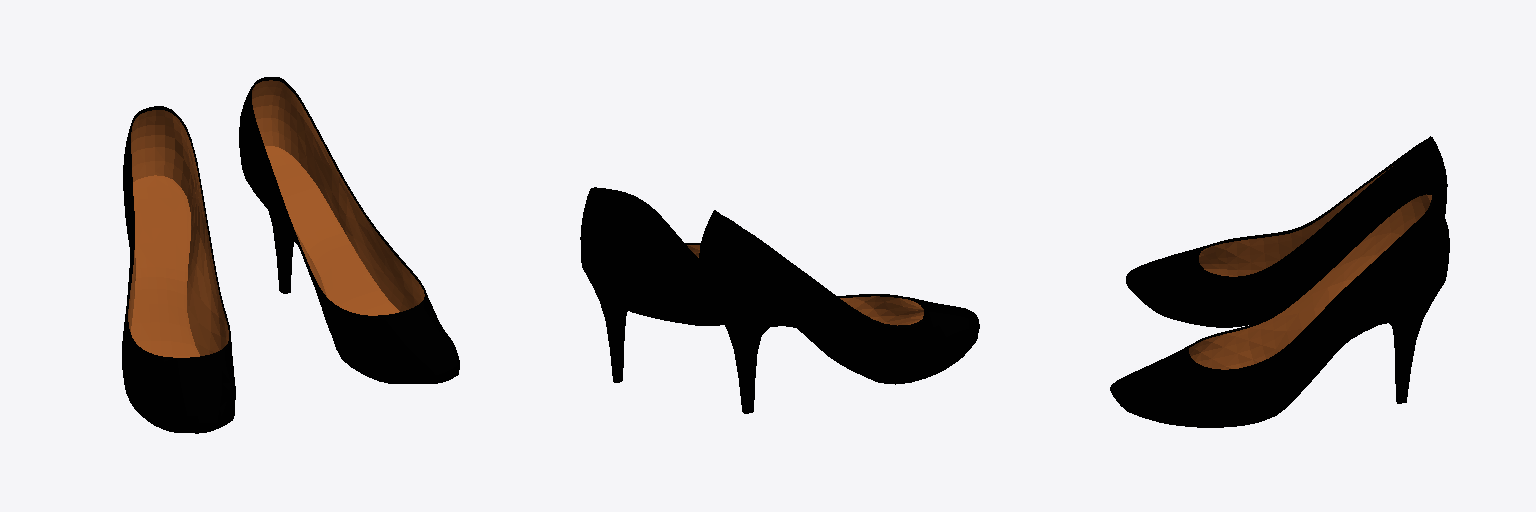
File: woman_shoes.obj
3 renders of one model, left to right at view 1: azimuth 30°, elevation 25°; view 2: azimuth 150°, elevation 25°; view 3: azimuth 270°, elevation 25°, orthographic.
Parts seen in each view (by area): view 1: left_shoe_Plane.001, right_shoe_Plane.005; view 2: right_shoe_Plane.005, left_shoe_Plane.001; view 3: left_shoe_Plane.001, right_shoe_Plane.005.
Boxes of the visible parts, box(x1,y1,x2,y2) form: left_shoe_Plane.001: box(239, 77, 459, 383); right_shoe_Plane.005: box(122, 106, 235, 433); right_shoe_Plane.005: box(699, 210, 979, 413); left_shoe_Plane.001: box(580, 187, 723, 382); left_shoe_Plane.001: box(1110, 190, 1449, 427); right_shoe_Plane.005: box(1126, 136, 1447, 327).
Bounding box in the file's own units: 0.2474 × 0.1622 × 0.244.